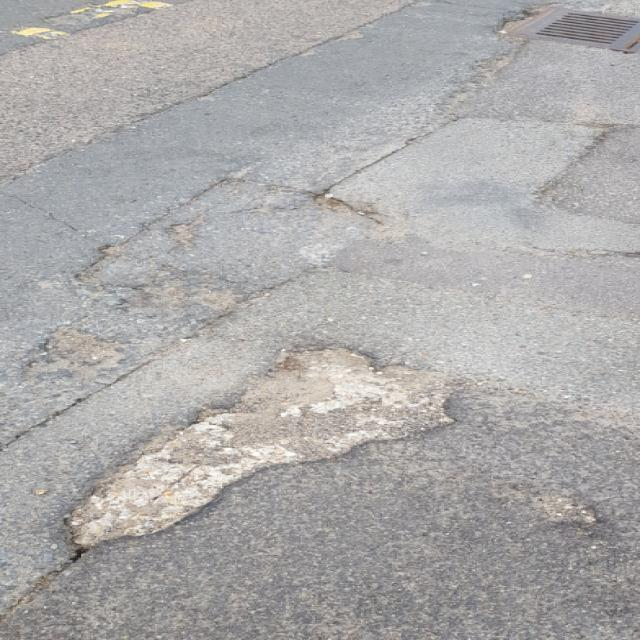pothole: (44, 332, 459, 548)
